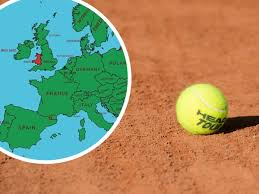tennis_ball: (174, 82, 229, 136)
